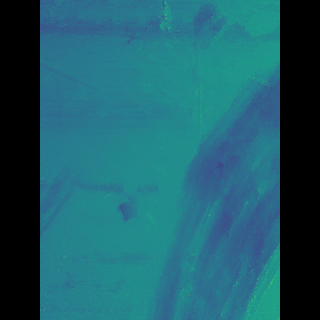Loch: (136, 41, 250, 320), (69, 140, 113, 245), (69, 55, 125, 98)
